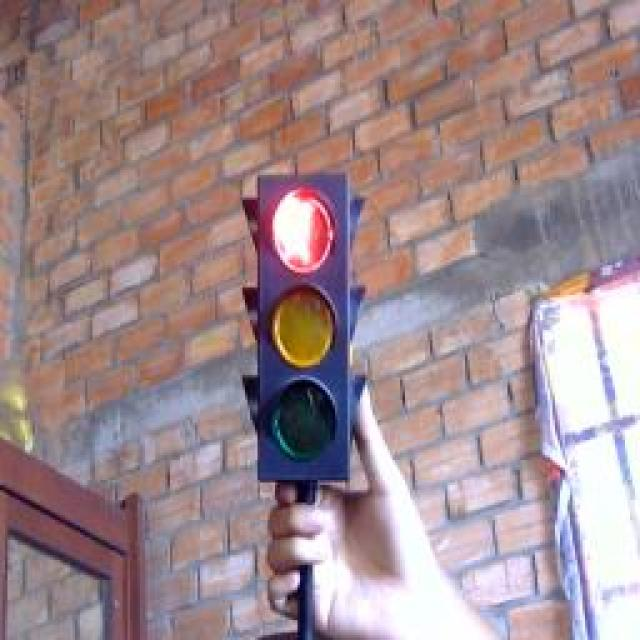-: (265, 184, 345, 284)
